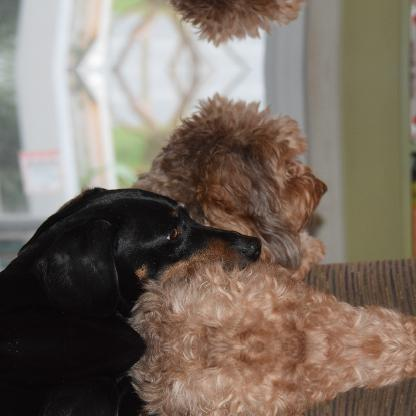Dog: (128, 90, 416, 346), (0, 186, 262, 345), (128, 346, 415, 415), (0, 346, 263, 415)
